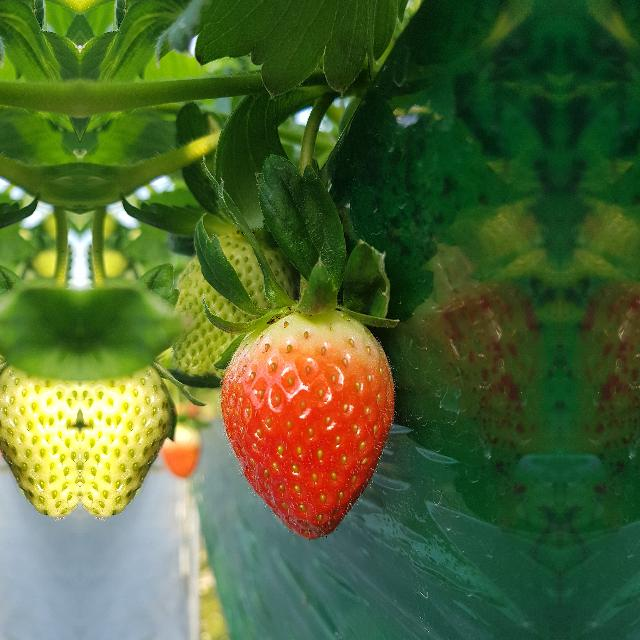Health_100: (218, 310, 394, 540)
